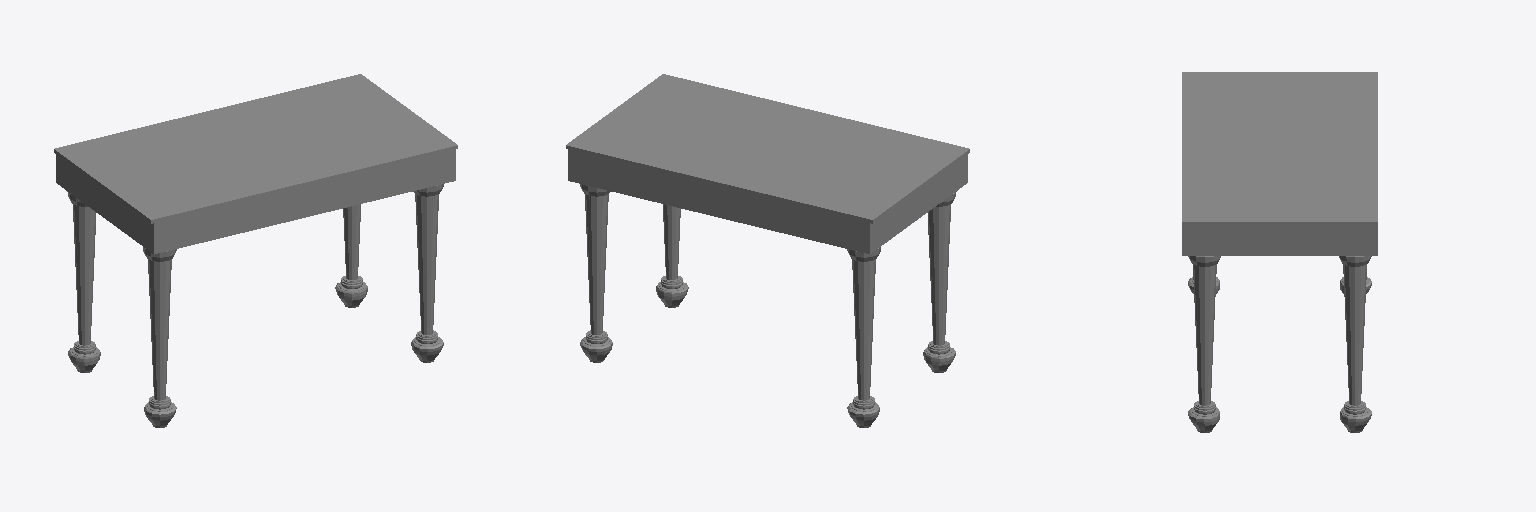
The model's file is sm_desk_final.obj.
The picture shows the model from 3 angles: view 1: azimuth 30°, elevation 25°; view 2: azimuth 150°, elevation 25°; view 3: azimuth 270°, elevation 25°; orthographic projection.
Visible parts, largest first — view 1: Plane001; view 2: Plane001; view 3: Plane001.
Part boxes in pixels (bbox=[...]): Plane001: bbox=[54, 74, 457, 427]; Plane001: bbox=[566, 74, 969, 427]; Plane001: bbox=[1182, 72, 1377, 432].
Size of the model in its own units: 25.11 by 17.03 by 13.82.